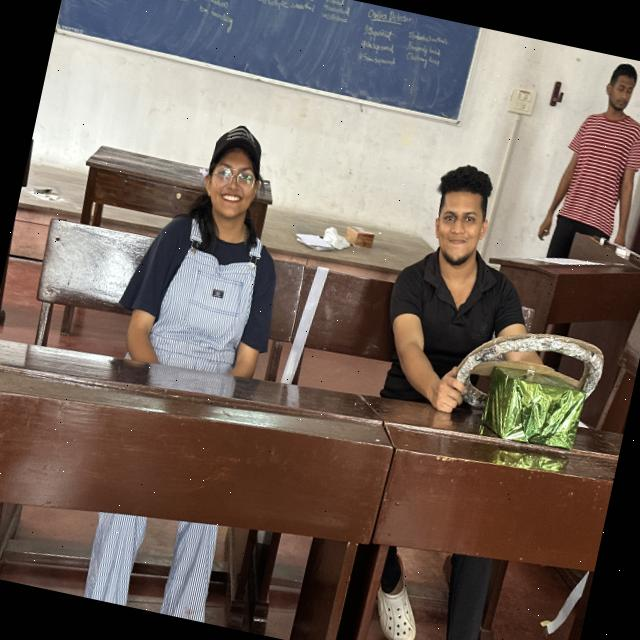Helmet: (106, 203, 322, 386), (368, 247, 542, 430)
